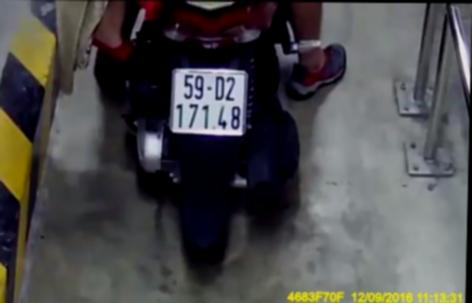License_Plate: (162, 60, 257, 142)
